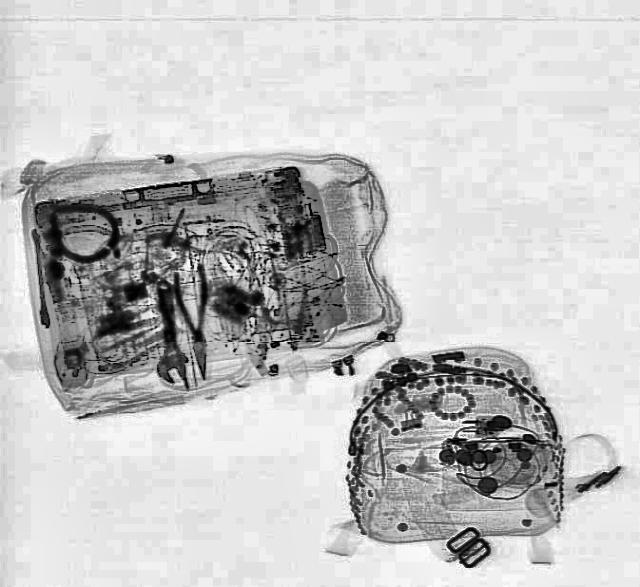Pliers: (170, 263, 222, 381)
Wrench: (139, 276, 193, 386), (30, 226, 50, 328)
